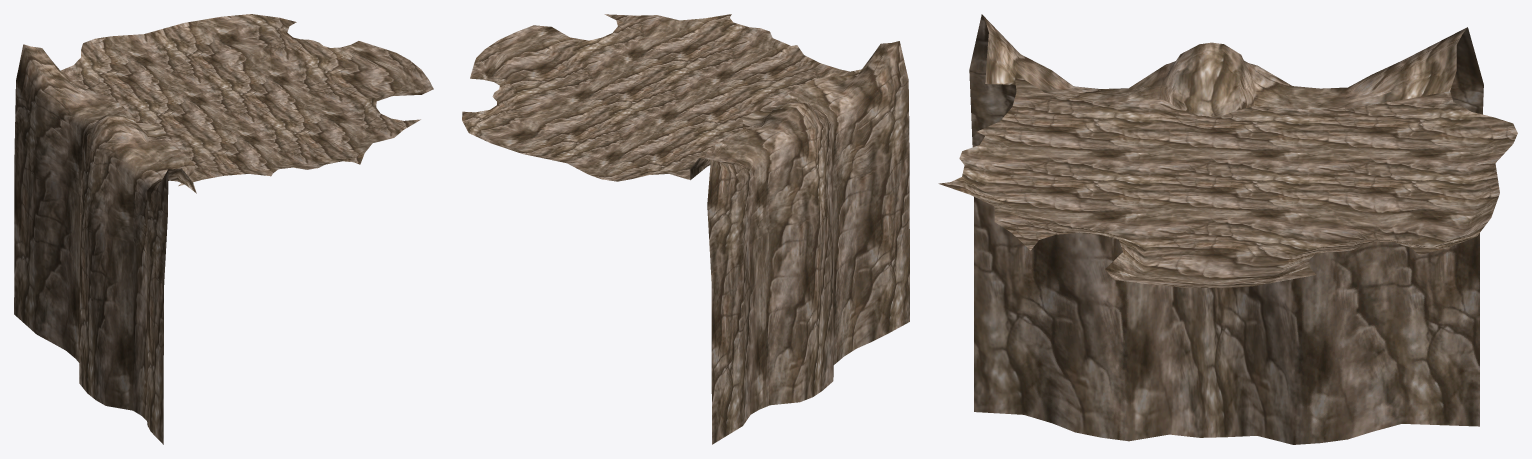
File: OVERHILL_A_01_OBJECT15.fbx
3 views of the same model, side by side, from view 1: azimuth 30°, elevation 25°; view 2: azimuth 150°, elevation 25°; view 3: azimuth 270°, elevation 25° (orthographic). The views are drawn at different scales.
Parts seen in each view (by area): view 1: OVERHILL_A_01_OBJECT15; view 2: OVERHILL_A_01_OBJECT15; view 3: OVERHILL_A_01_OBJECT15.
Part boxes in pixels (x1=…): OVERHILL_A_01_OBJECT15: x1=14, y1=14, x2=433, y2=444; OVERHILL_A_01_OBJECT15: x1=462, y1=14, x2=909, y2=444; OVERHILL_A_01_OBJECT15: x1=938, y1=14, x2=1517, y2=444.
Bounding box in the file's own units: 182313 × 151355 × 187742.
1 material, 1 textured.
